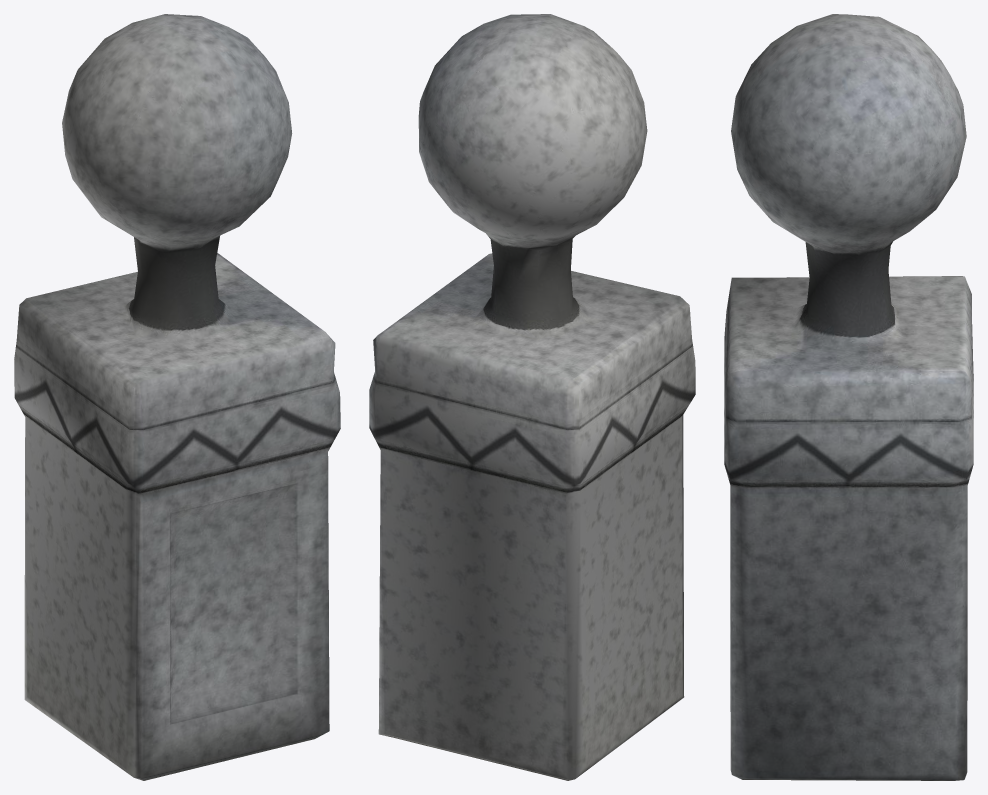
File: post_square_w.glb
The picture shows the model from 3 angles, left to right: view 1: azimuth 30°, elevation 25°; view 2: azimuth 150°, elevation 25°; view 3: azimuth 270°, elevation 25°; orthographic projection. The views are drawn at different scales.
Visible parts, largest first — view 1: post_square_w_lod0; view 2: post_square_w_lod0; view 3: post_square_w_lod0.
Boxes of the visible parts, x1,y1,x2,y2 form: post_square_w_lod0: [14, 14, 340, 780]; post_square_w_lod0: [369, 14, 695, 780]; post_square_w_lod0: [724, 14, 973, 780].
Bounding box in the file's own units: 0.2836 × 0.8945 × 0.2839.
Materials: 1 (1 with a texture image).
